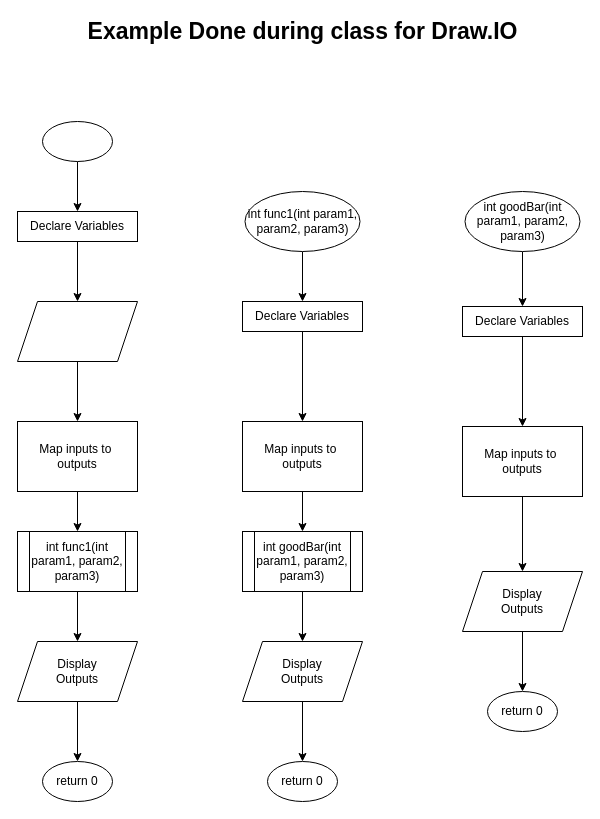
The diagram is 600 pixels wide and 819 high, and some of its shapes have lost their labels. Here are the shapes that lost their labels. From the top down, the centre of each, then its label:
At point 77,141: "main".
At point 77,331: "Prompt and Input Values".
